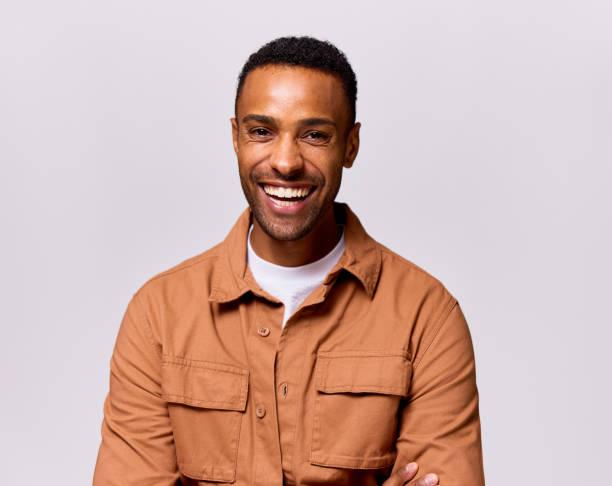no_goggle: (236, 111, 363, 154)
no_helmet: (231, 25, 373, 120)
no_vest: (85, 192, 498, 486)
